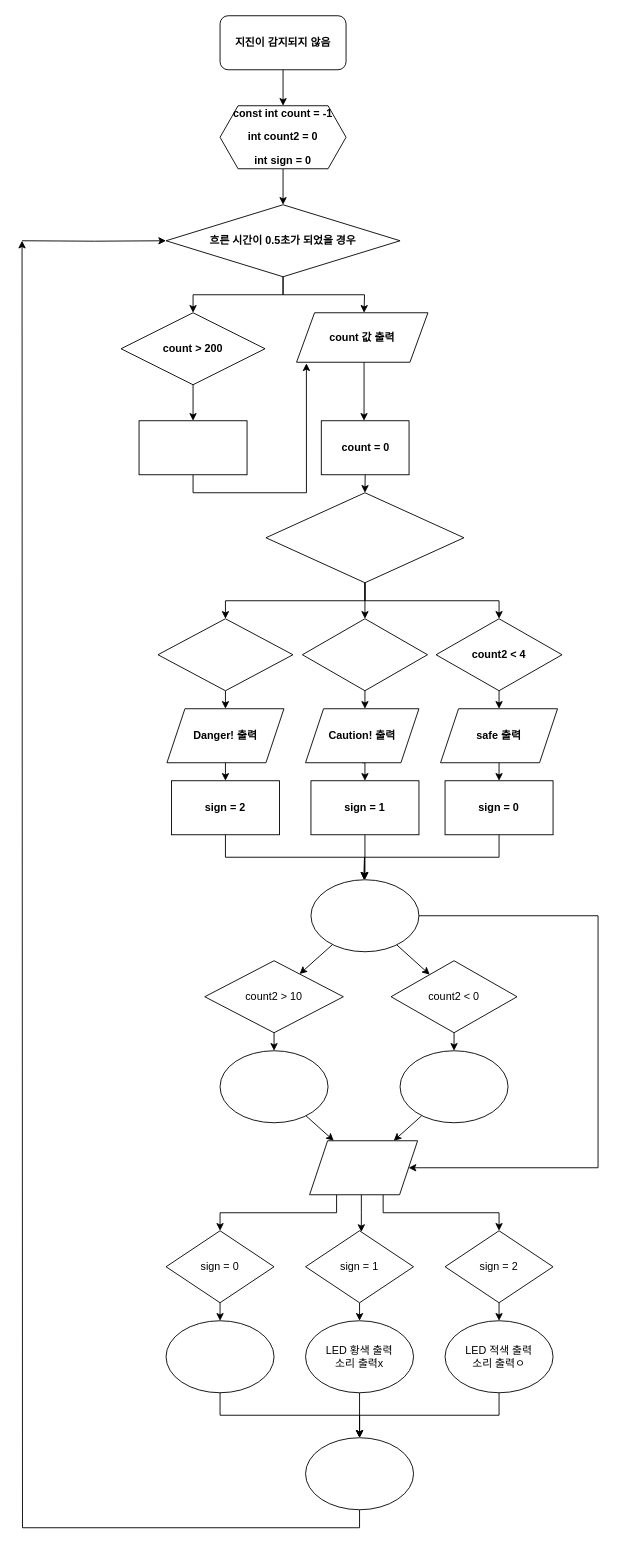
Some shapes in this 621 by 1551 pixel diagram are drawn without their labels. The shapes that lost their labels are listed below. From the top down, each one's centre as x and y in pixels, then its label:
At [192,447]: "count2++".
At [364,537]: "흐른 시간이 5초가 되었을 경우".
At [225,654]: "count2 >7".
At [365,654]: "4 <= count2 < 7".
At [364,915]: "count2 -= 3".
At [273,1086]: "count2 = 10".
At [453,1086]: "count2 = 0".
At [363,1167]: "count2값 출력".
At [219,1356]: "LED 녹색 출력 소리 출력 x".
At [359,1473]: "delay(100)".
